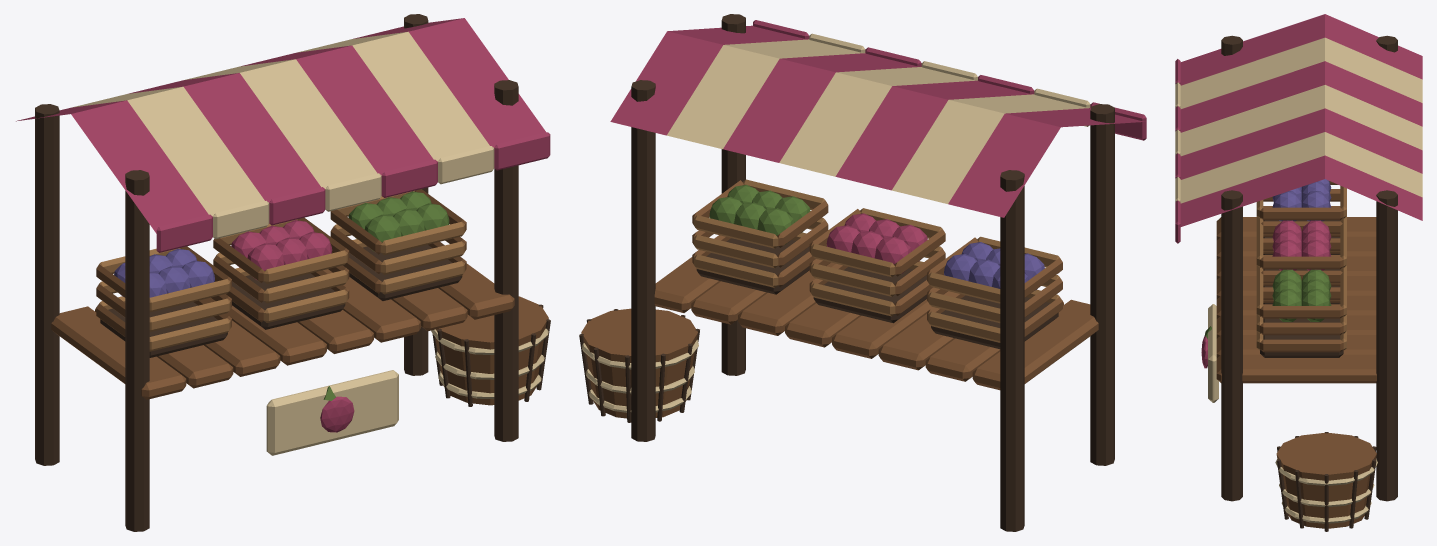
File: market.glb
The picture shows the model from 3 angles, left to right: view 1: azimuth 30°, elevation 25°; view 2: azimuth 150°, elevation 25°; view 3: azimuth 270°, elevation 25°; orthographic projection. The views are drawn at different scales.
Visible parts, largest first — view 1: BerryMarket; view 2: BerryMarket; view 3: BerryMarket.
Boxes of the visible parts, x1,y1,x2,y2 form: BerryMarket: (16,14,550,531); BerryMarket: (579,14,1146,531); BerryMarket: (1175,14,1422,531).
Bounding box in the file's own units: 3.03 × 2.3 × 1.6.
